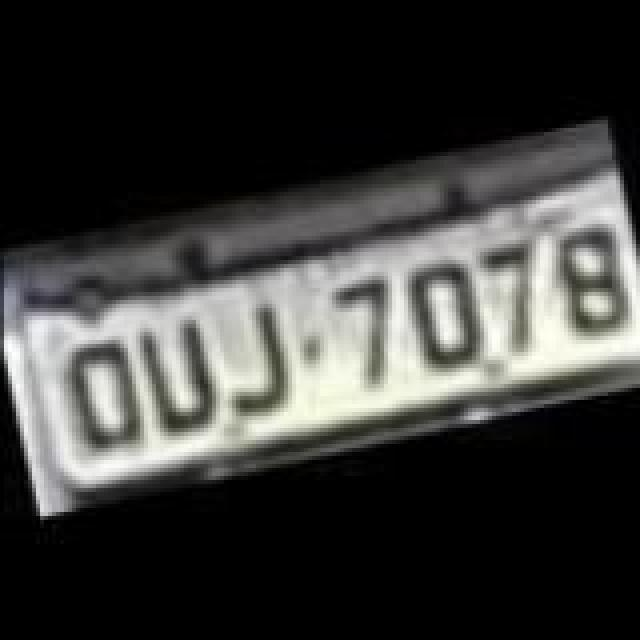7: (470, 236, 558, 360), (328, 276, 412, 392)
8: (548, 216, 640, 344)
J: (202, 296, 298, 424)
O: (54, 334, 154, 458), (400, 258, 492, 374)
U: (126, 314, 222, 438)
